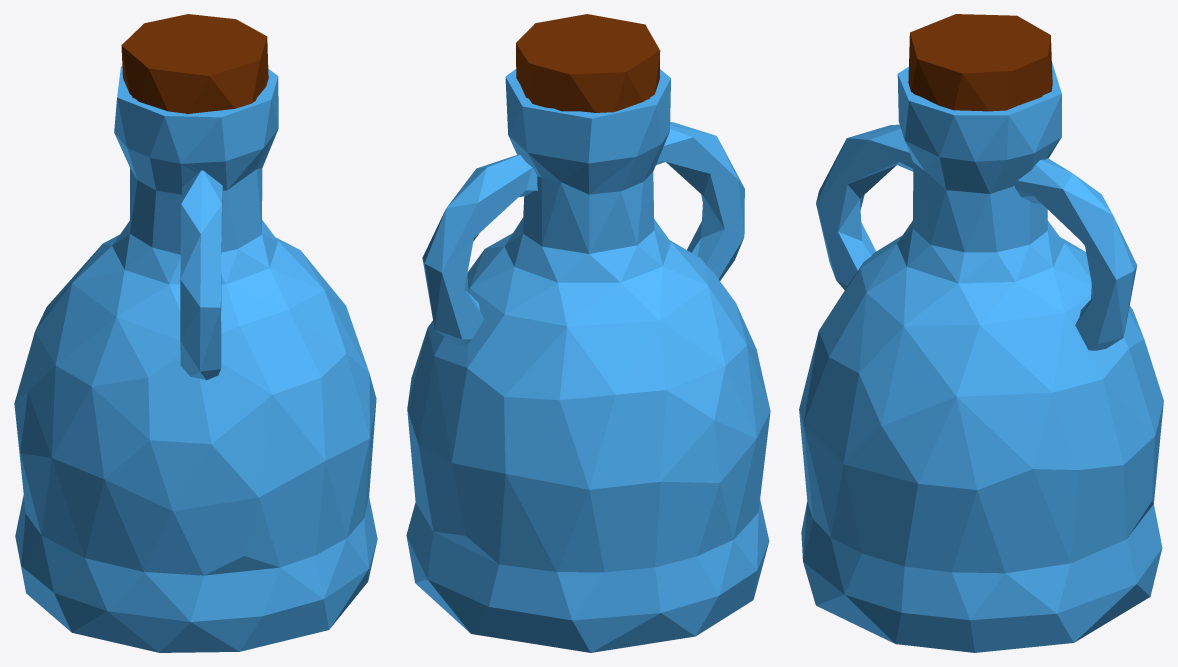
Rendered from Bottle_5.fbx.
The picture shows the model from 3 angles, left to right: view 1: azimuth 30°, elevation 25°; view 2: azimuth 150°, elevation 25°; view 3: azimuth 270°, elevation 25°; orthographic projection.
Visible parts, largest first — view 1: Bottle #5; view 2: Bottle #5; view 3: Bottle #5.
Boxes of the visible parts, x1,y1,x2,y2 form: Bottle #5: [14, 14, 377, 652]; Bottle #5: [406, 14, 770, 652]; Bottle #5: [799, 14, 1163, 652].
Size of the model in its own units: 47.92 by 78.09 by 48.04.
